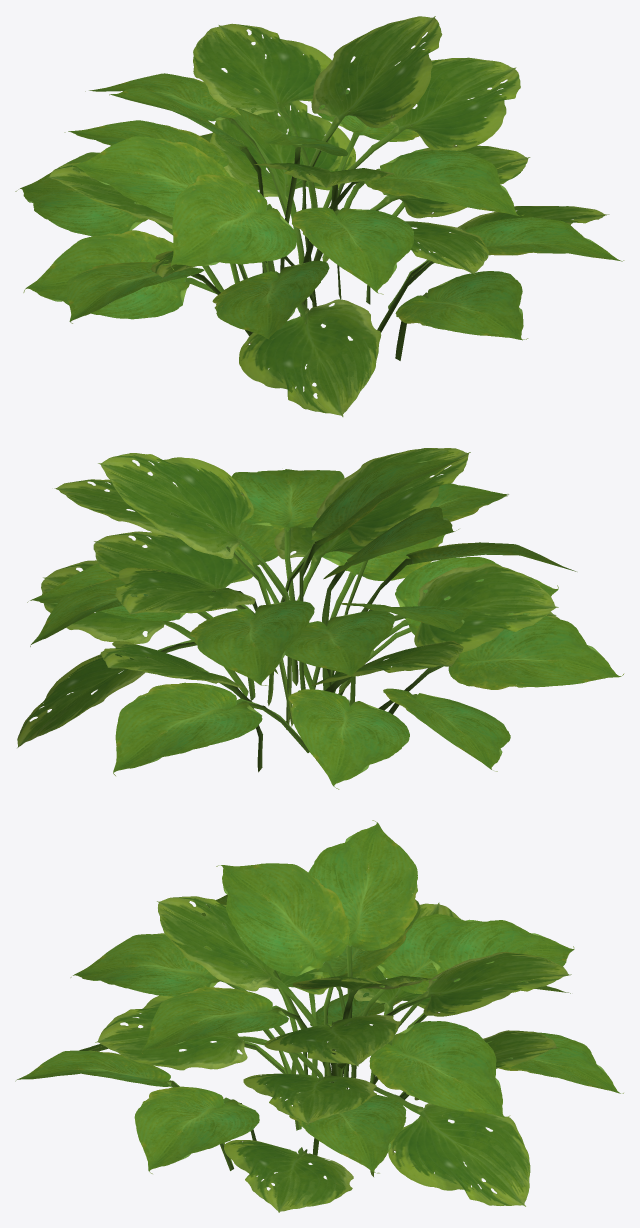
The model's file is NaturePlant01_2.FBX.
3 renders of one model, top to bottom at view 1: azimuth 30°, elevation 25°; view 2: azimuth 150°, elevation 25°; view 3: azimuth 270°, elevation 25°, orthographic. The views are drawn at different scales.
Visible parts, largest first — view 1: NaturePlant01_2; view 2: NaturePlant01_2; view 3: NaturePlant01_2.
Boxes of the visible parts, x1,y1,x2,y2 form: NaturePlant01_2: (15, 16, 624, 416); NaturePlant01_2: (17, 448, 624, 789); NaturePlant01_2: (15, 820, 623, 1212).
Bounding box in the file's own units: 0.8499 × 0.4155 × 0.8592.
